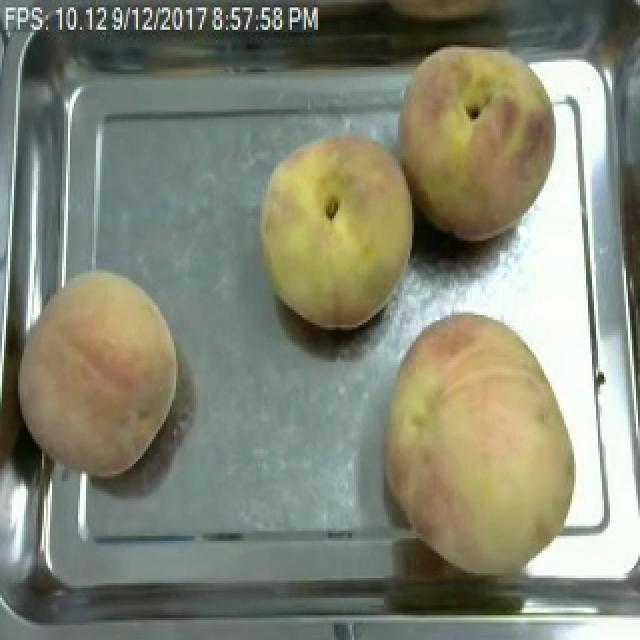Fruit: (368, 302, 588, 580), (4, 258, 188, 486), (390, 32, 576, 251), (248, 124, 426, 337)
